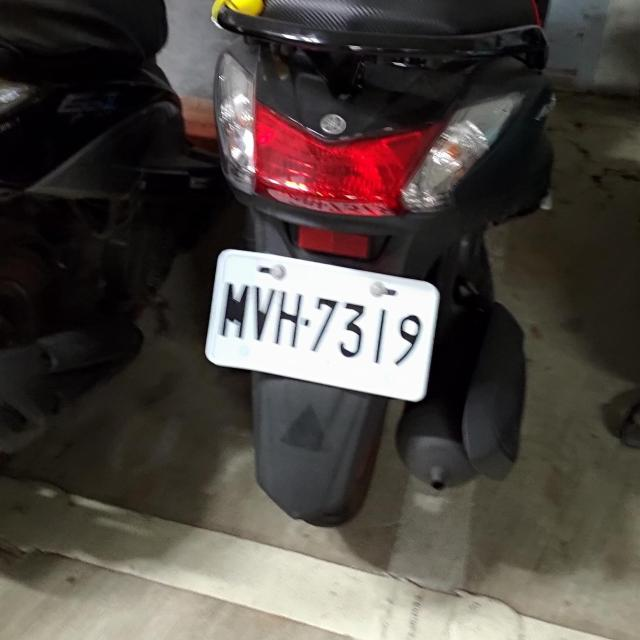W: (201, 244, 444, 402)
